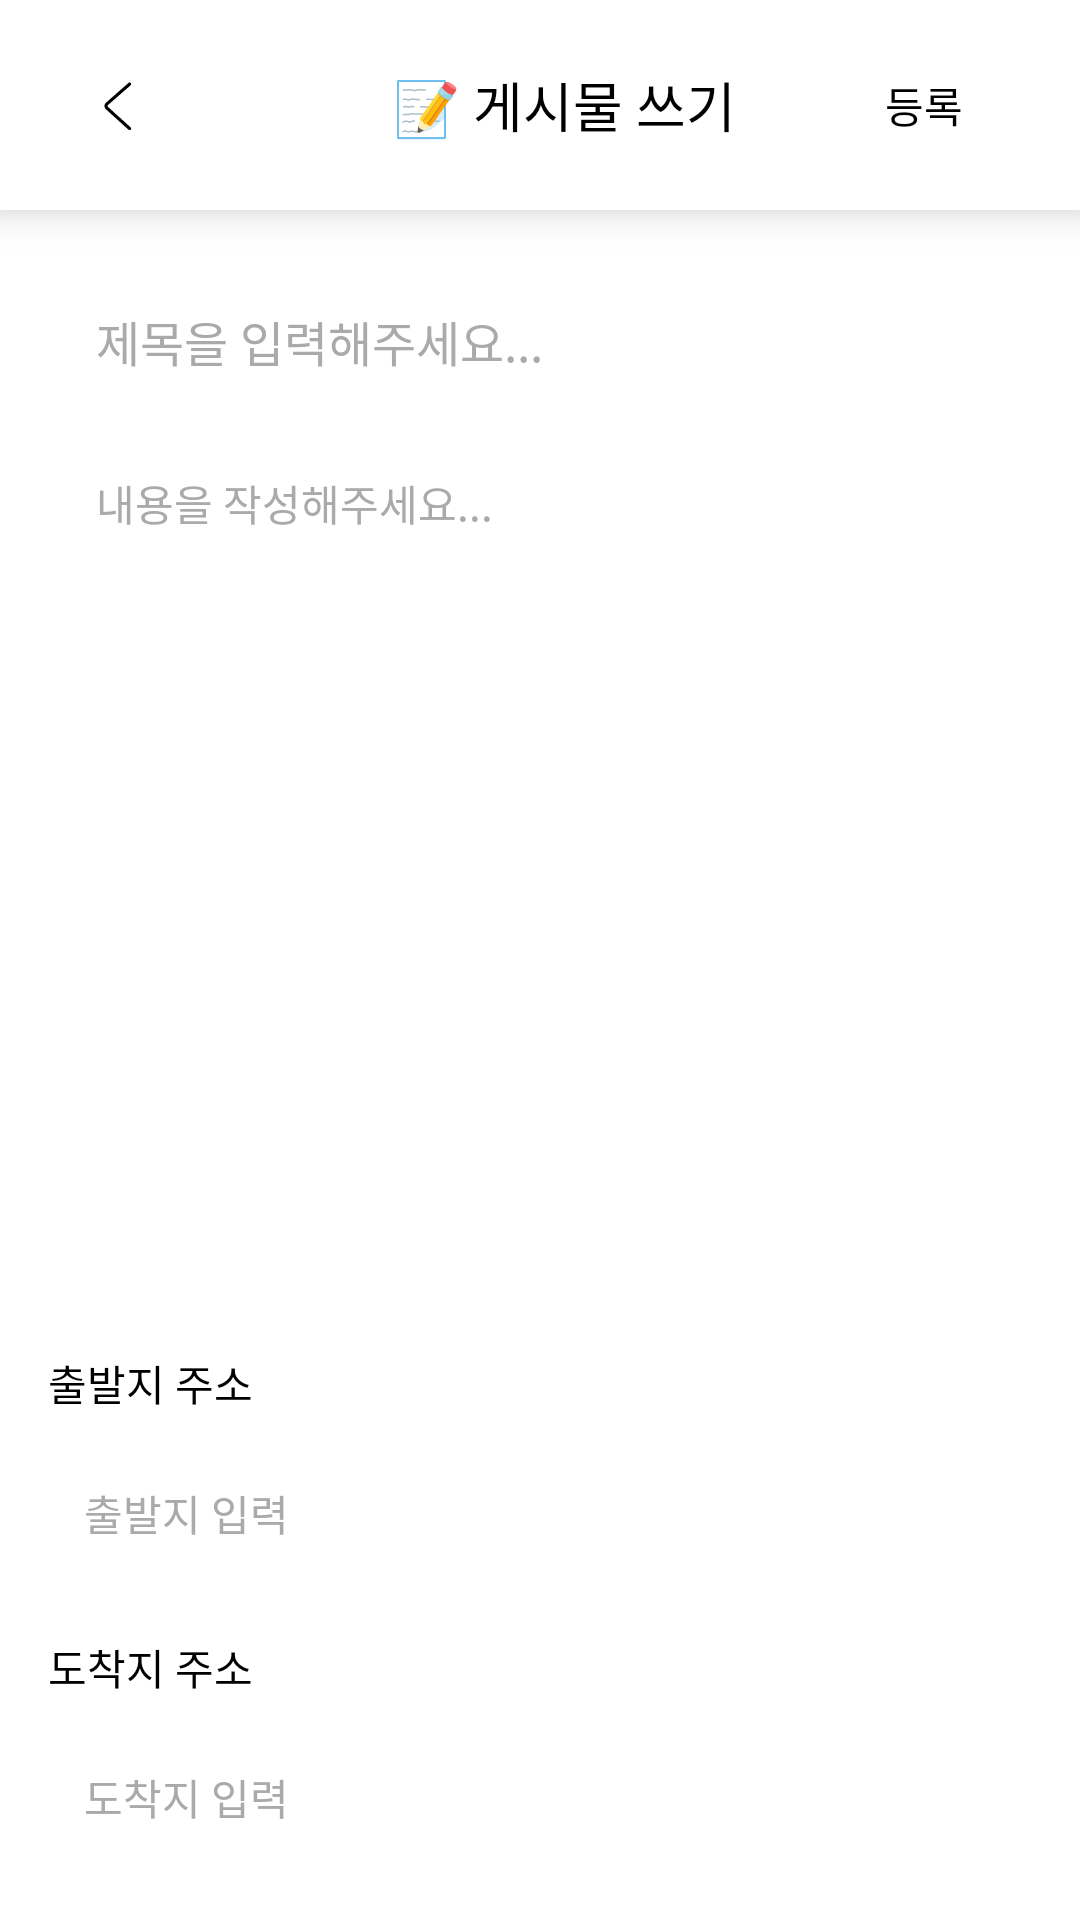

Locate icon controls on the screen. Image size 1080px×1920px, boxes as Rect(x1, y1, x2, y2).
back arrow: Rect(104, 82, 132, 130)
